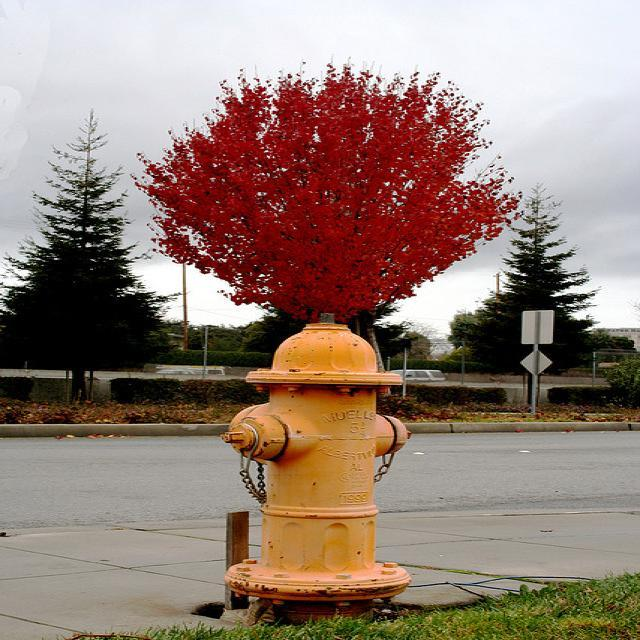fire_hydrant: (212, 308, 422, 627)
